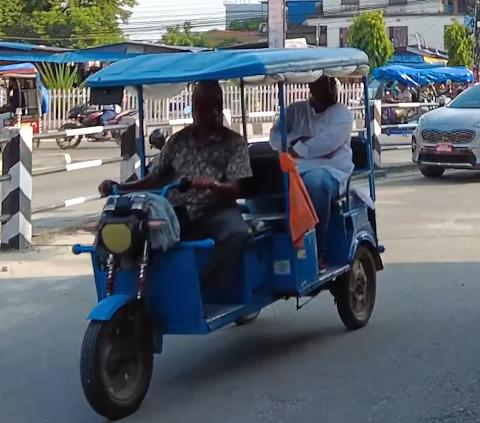car: (410, 80, 480, 177)
e-rickshaw: (69, 42, 390, 423)
